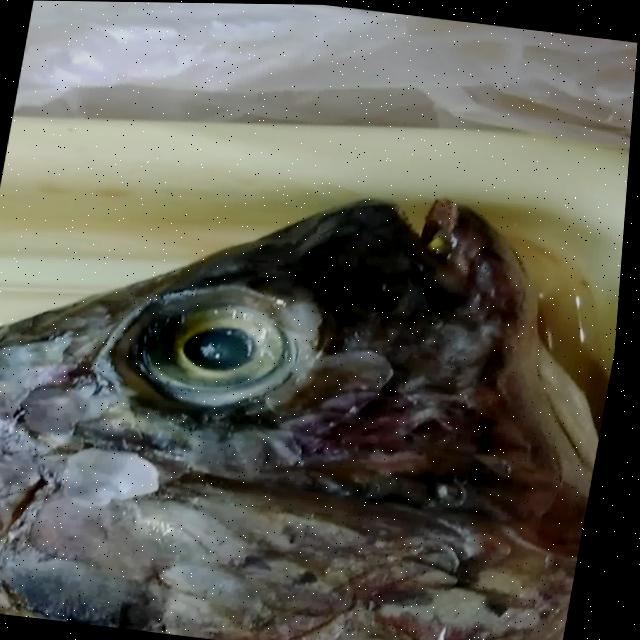Non-Fresh: (277, 201, 629, 640), (126, 274, 307, 420)
